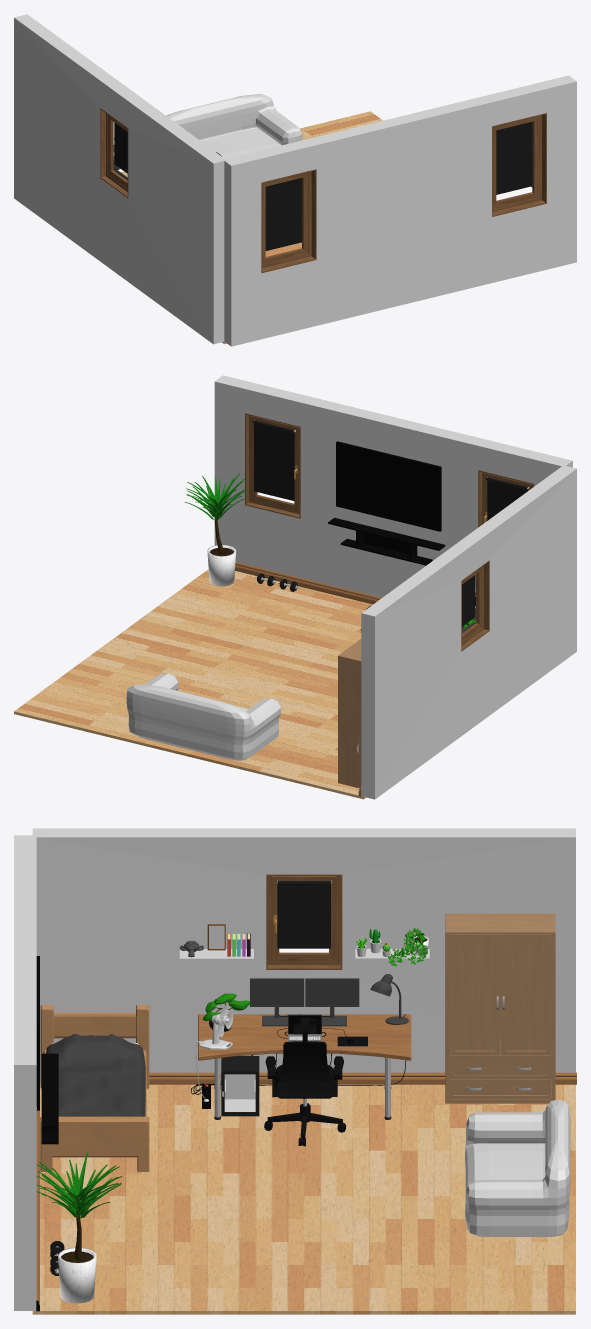
The model's file is ALL.fbx.
3 views of the same model, one above another, from view 1: azimuth 30°, elevation 25°; view 2: azimuth 150°, elevation 25°; view 3: azimuth 270°, elevation 25° (orthographic). The views are drawn at different scales.
Visible parts, largest first — view 1: Plane.018, Plane.015, Cube.033, Black Blinds.001, Black Blinds.002, Window.001, Window, Plane.016, Window.002, Black Blinds, Plane.022, Cube.038 (+1 smaller); view 2: Plane.015, Plane.016, Plane.018, Cube.033, Cube.032, Wardrobe, Black Blinds.001, Cube.051, Window.001, Cube.049, Leaf.034, Standing plant (+3 smaller); view 3: Plane.016, Plane.015, Cube.033, Plane.018, Plane.014, Door Top 1, Door Top 1.002, Desk, Wardrobe, Cube.019, Black Blinds, Chair top.001 (+18 smaller).
Boxes of the visible parts, left/top/right/bottom form: Plane.018: left=223, top=75, right=576, bottom=346; Plane.015: left=14, top=14, right=224, bottom=344; Cube.033: left=166, top=94, right=302, bottom=158; Black Blinds.001: left=496, top=122, right=532, bottom=194; Black Blinds.002: left=265, top=178, right=301, bottom=250; Window.001: left=492, top=116, right=539, bottom=208; Window: left=262, top=172, right=308, bottom=265; Plane.016: left=121, top=111, right=382, bottom=344; Window.002: left=107, top=115, right=127, bottom=188; Black Blinds: left=114, top=122, right=127, bottom=173; Plane.022: left=311, top=170, right=316, bottom=258; Cube.038: left=262, top=171, right=311, bottom=267; Plane.015: left=361, top=466, right=576, bottom=799; Plane.016: left=14, top=569, right=372, bottom=799; Plane.018: left=214, top=375, right=572, bottom=597; Cube.033: left=126, top=673, right=280, bottom=760; Cube.032: left=336, top=441, right=441, bottom=531; Wardrobe: left=338, top=639, right=361, bottom=788; Black Blinds.001: left=254, top=423, right=294, bottom=500; Cube.051: left=328, top=517, right=445, bottom=565; Window.001: left=250, top=416, right=299, bottom=512; Cube.049: left=235, top=562, right=381, bottom=604; Leaf.034: left=185, top=473, right=246, bottom=520; Standing plant: left=207, top=545, right=236, bottom=586; Plane.016: left=32, top=1083, right=575, bottom=1314; Plane.015: left=32, top=828, right=575, bottom=1083; Cube.033: left=465, top=1099, right=570, bottom=1236; Plane.018: left=14, top=835, right=36, bottom=1310; Plane.014: left=46, top=1033, right=145, bottom=1116; Door Top 1: left=449, top=934, right=500, bottom=1055; Door Top 1.002: left=500, top=934, right=551, bottom=1055; Desk: left=198, top=1014, right=411, bottom=1060; Wardrobe: left=445, top=913, right=555, bottom=1103; Cube.019: left=40, top=1116, right=149, bottom=1171; Black Blinds: left=277, top=885, right=330, bottom=948; Chair top.001: left=275, top=1041, right=334, bottom=1098.
Bounding box in the file's own units: 605 × 291 × 595.
Materials: 62 (18 with a texture image).
